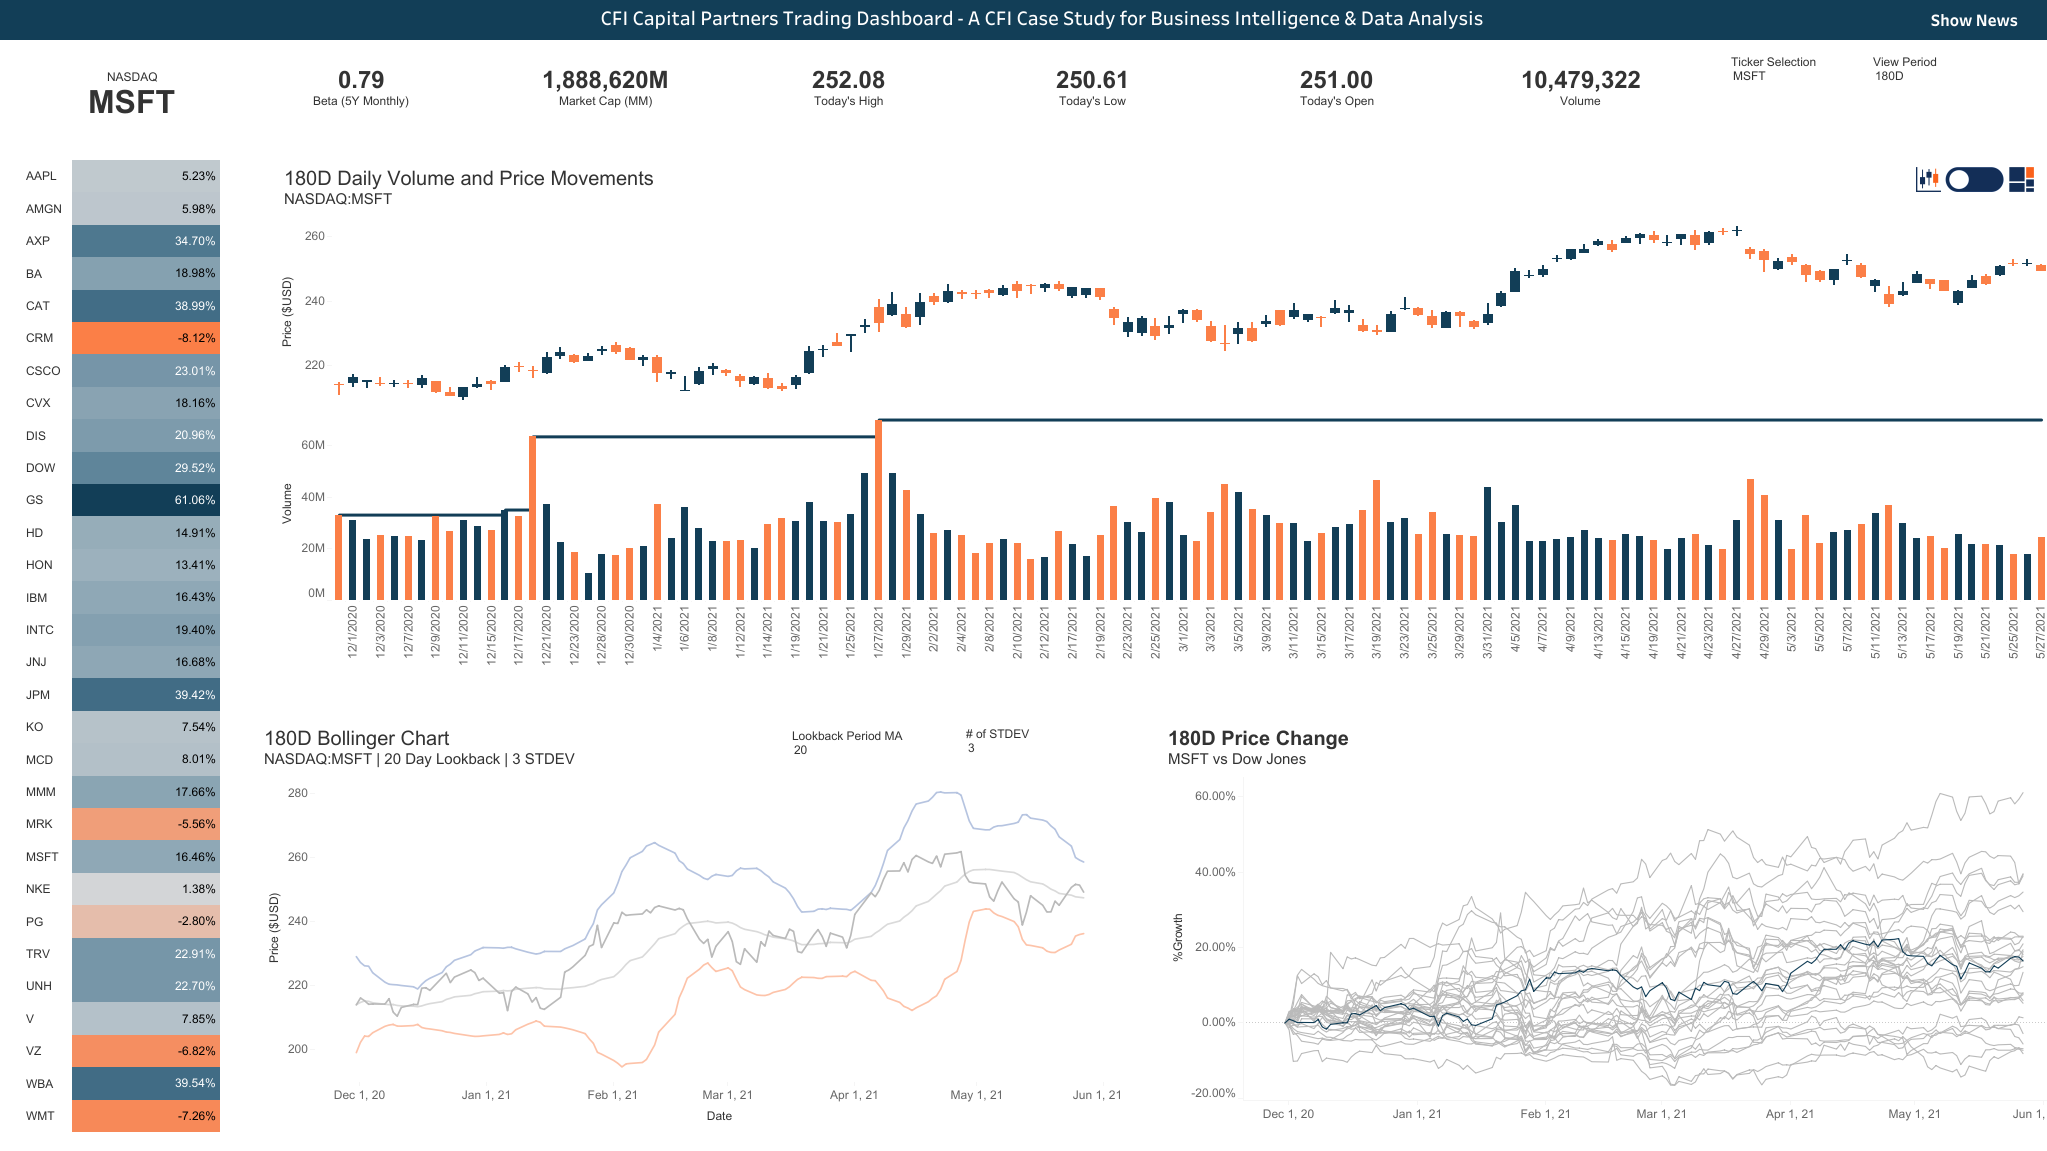

Layout of this report page (visuals, bound fields, positions):
{"tool":"tableau","page":{"name":"DOW Jones Technical Analysis","canvas":[2048,1152],"ordinal":0},"visuals":[{"type":"dashboard-object","box":[1911,4,127,30]},{"type":"web page","param":"https://s.tradingview.com/widgetembed/?symbol=<[Parameters].[Parameter 4]>&inter","box":[11,40,2036,1111]},{"type":"worksheet","title":"Ticker","mark":"Automatic","box":[20,40,225,110]},{"type":"worksheet","title":"BANS","mark":"Automatic","box":[240,40,1463,95]},{"type":"parameter","param":"[Parameters].[Parameter 4]","box":[1731,54,131,41]},{"type":"parameter","param":"[Parameters].[Parameter 1]","box":[1873,54,167,41]},{"type":"dashboard-object","box":[1916,152,123,55]},{"type":"worksheet","title":" TotalGrowth","mark":"Square","rows":["Symbol"],"box":[20,160,200,972]},{"type":"worksheet","title":"CandlestickChart","mark":"GanttBar","rows":["Open","Low","Volume","Calculation_346214283092754434"],"cols":["Date"],"box":[280,160,1768,520]},{"type":"worksheet","title":"TREEMAP","mark":"Automatic","box":[280,160,1768,520]},{"type":"legend","title":" TotalGrowth","param":"[federated.03vb9l80aneml410iinwh1e7dn8k].[usr:Calculation_346214283221295117:qk]","box":[280.4,223.2,140.2,76.3]},{"type":"worksheet","title":"BollingerBands","mark":"Automatic","rows":["Close"],"cols":["Date"],"box":[260,720,864,410]},{"type":"parameter","param":"[Parameters].[Parameter 3]","box":[966,726,142,40]},{"type":"parameter","param":"[Parameters].[Parameter 2]","box":[792,728,163,52]}]}

Visuals, with their boxes in screenshot pixels (x1, y1, x2, y2), scaled from the page's 2048x1152 canvas onto the 2047x1151 screenshot:
dashboard-object: [1910, 4, 2037, 34]
web page: [11, 40, 2046, 1150]
"Ticker" worksheet: [20, 40, 245, 150]
"BANS" worksheet: [240, 40, 1702, 135]
parameter: [1730, 54, 1861, 95]
parameter: [1872, 54, 2039, 95]
dashboard-object: [1915, 152, 2038, 207]
" TotalGrowth" worksheet (Square marks): [20, 160, 220, 1131]
"CandlestickChart" worksheet (GanttBar marks): [280, 160, 2046, 679]
"TREEMAP" worksheet: [280, 160, 2046, 679]
" TotalGrowth" legend: [280, 223, 420, 299]
"BollingerBands" worksheet: [260, 719, 1123, 1129]
parameter: [966, 725, 1107, 765]
parameter: [792, 727, 955, 779]
